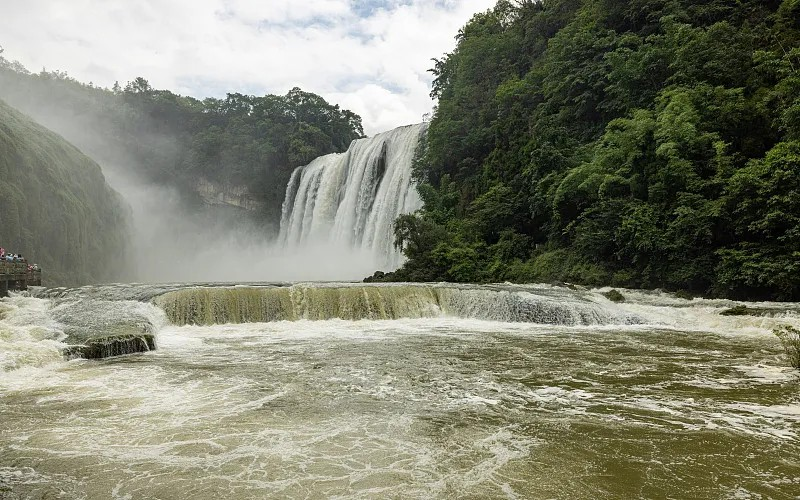Huangguoshu: (274, 123, 423, 282)
